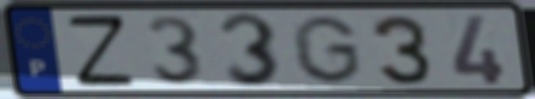3: (217, 10, 284, 90), (369, 12, 435, 87), (144, 13, 207, 87)
4: (448, 11, 510, 88)
G: (288, 13, 365, 87)
Z: (63, 12, 139, 89)
